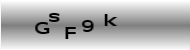9: (80, 19, 94, 33)
F: (63, 25, 77, 40)
G: (34, 21, 49, 35)
k: (103, 13, 118, 27)
s: (48, 12, 61, 22)
